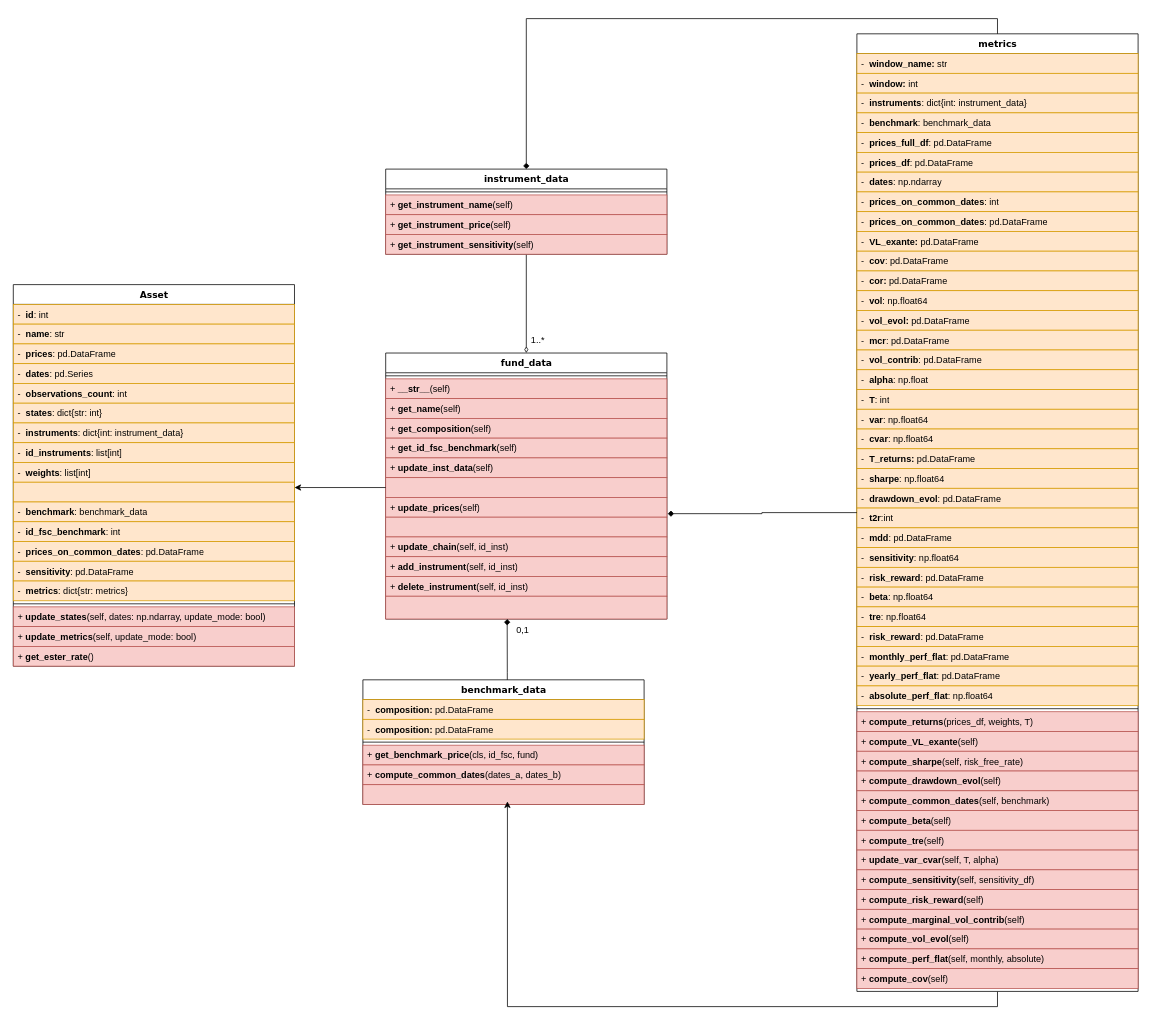
The diagram is 1151 pixels wide and 1026 high, and some of its shapes have lost their labels. Here are the shapes that lost their labels. From the top down, the centre of each, then its label:
At pixel 153 491: "- cash_weight : np.float64".
At pixel 526 487: "+ update_dates (self)".
At pixel 526 526: "+ update_sensitivity (self)".
At pixel 526 607: "+ update_weights (self, weights_vector)".
At pixel 503 794: "+ get_benchmark_composition (self)".
